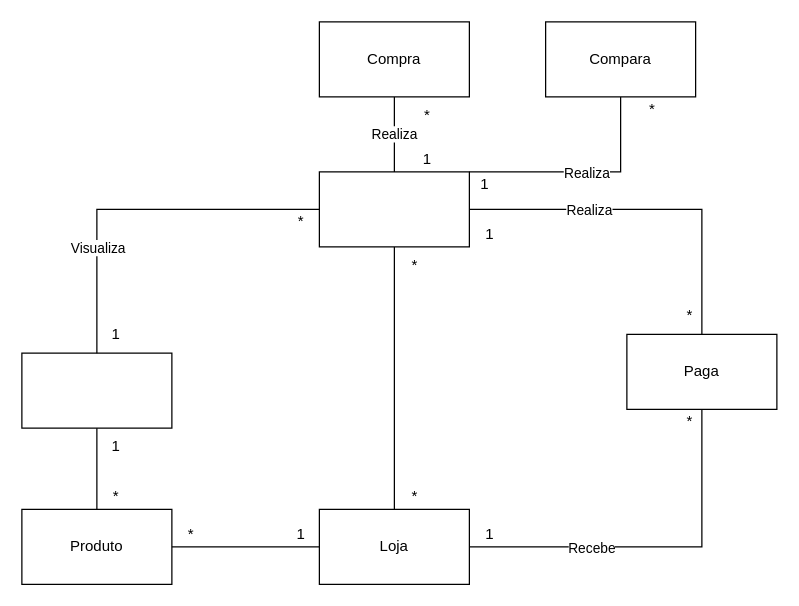
This 799x606 diagram has some shape labels left out. Here are the shapes that lost their labels. From the top down, the box of each, then its label:
(318, 171, 469, 247): Cliente
(21, 352, 172, 428): Vitrine
